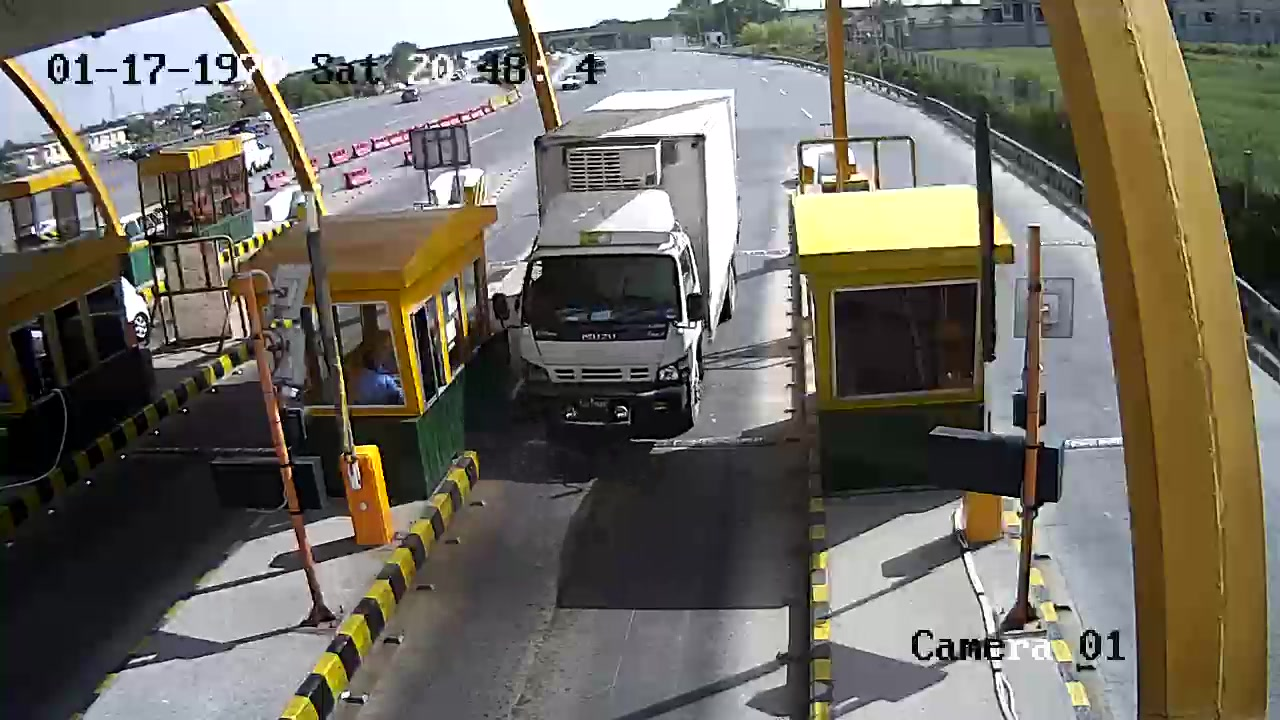F3: (510, 67, 750, 437)
